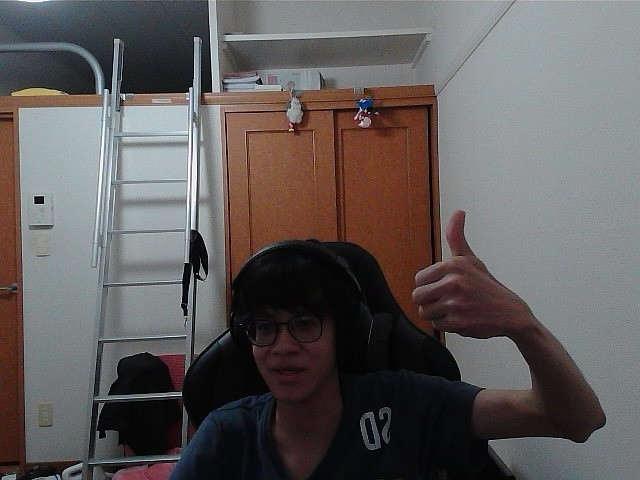thumb_up: (419, 218, 506, 324)
